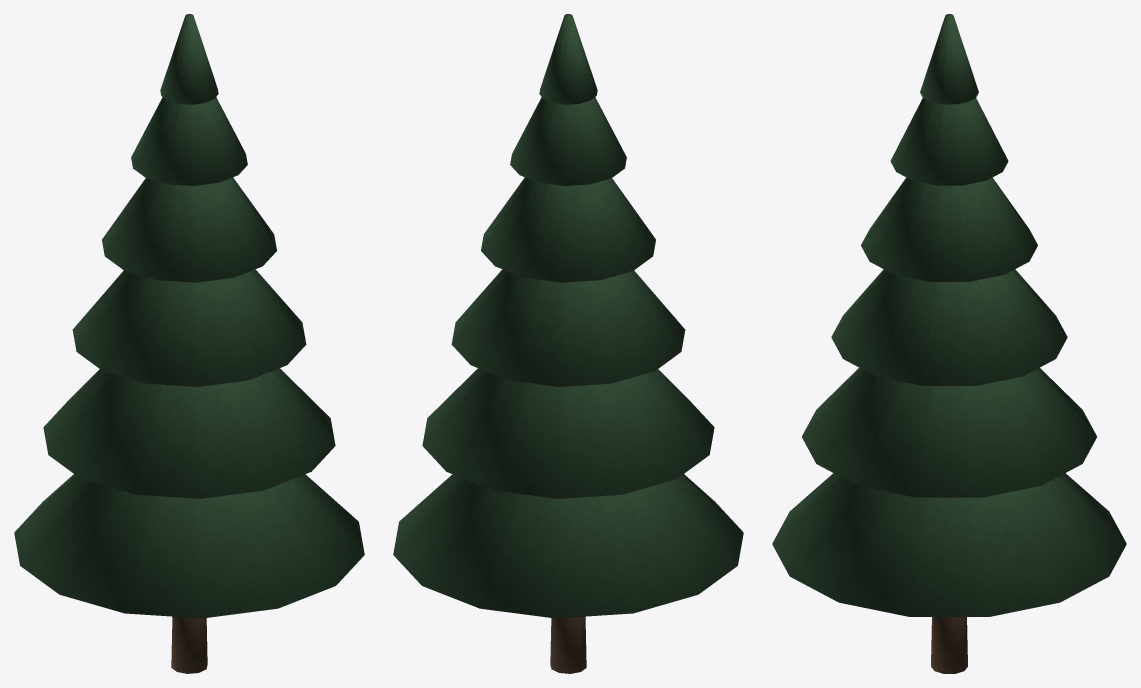
Rendered from spruce.glb.
The picture shows the model from 3 angles, left to right: view 1: azimuth 30°, elevation 25°; view 2: azimuth 150°, elevation 25°; view 3: azimuth 270°, elevation 25°; orthographic projection.
Visible parts, largest first — view 1: spruce; view 2: spruce; view 3: spruce.
Part boxes in pixels (x1=…): spruce: x1=14, y1=14, x2=364, y2=673; spruce: x1=393, y1=14, x2=743, y2=673; spruce: x1=772, y1=14, x2=1126, y2=673.
Size of the model in its own units: 4.09 by 8.5 by 4.2.
Materials: 1 (1 with a texture image).
